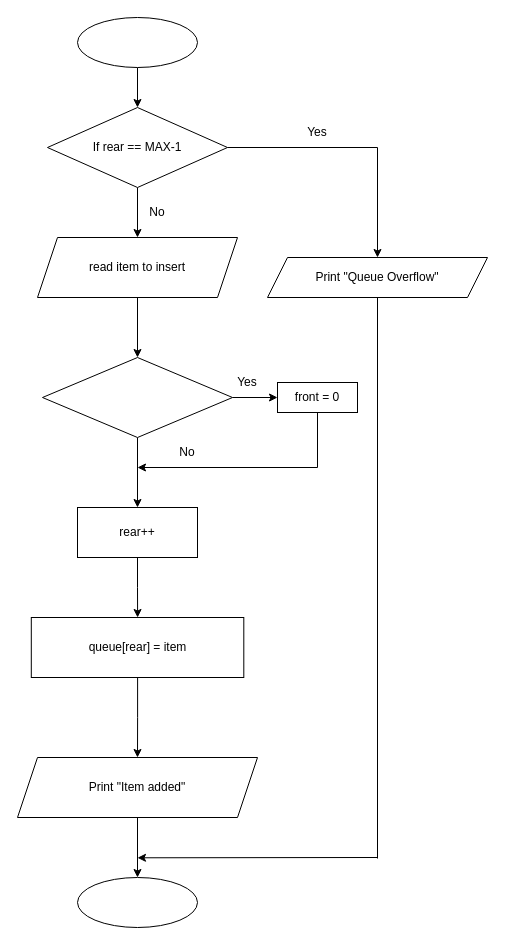
Some shapes in this 505 by 945 pixel diagram are drawn without their labels. The centre of each missing label's shape, as x and y in pixels:
"If front == -1" goes at (137,397).
"return" goes at (137,902).
"Start" goes at (137,42).
